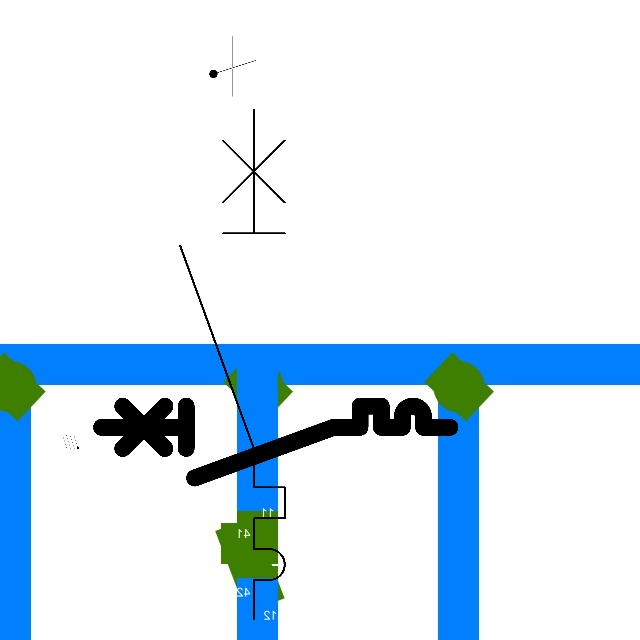interruptor_termomagnetico: (167, 96, 298, 631), (92, 397, 459, 486)
